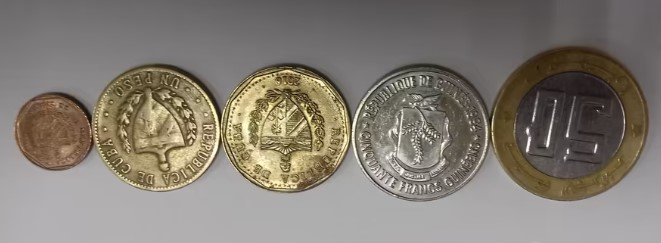coin: (491, 48, 650, 202), (351, 64, 489, 202), (221, 64, 352, 192), (93, 64, 219, 193), (14, 91, 93, 171)
